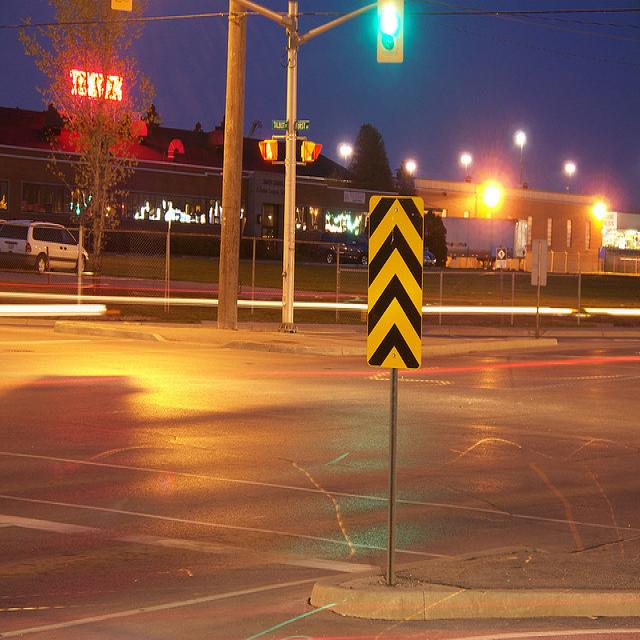Vehicle: (1, 218, 89, 273), (320, 242, 368, 266), (424, 250, 436, 266)
